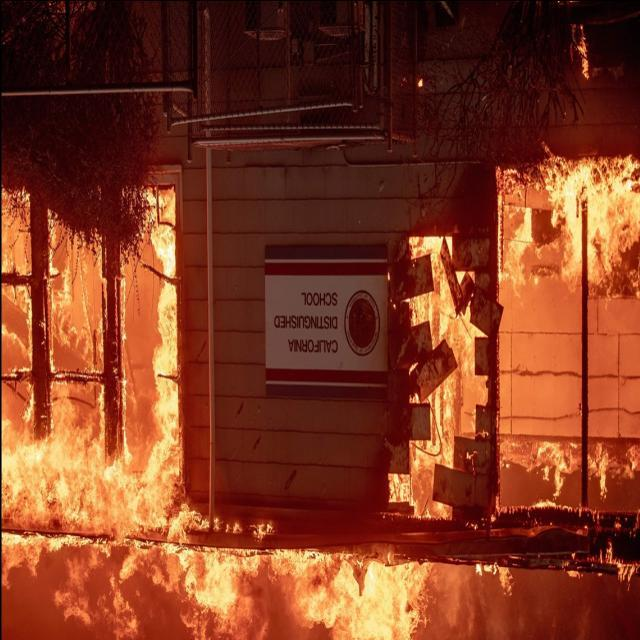Fire: (28, 152, 624, 639)
